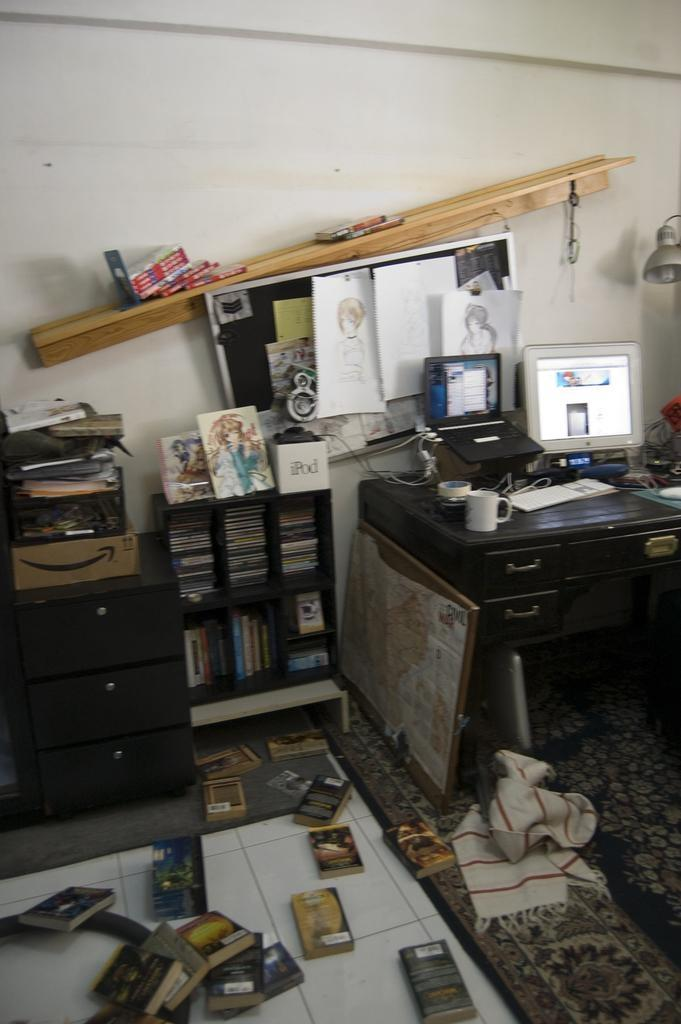AIO PC-Monitor-TV: (522, 341, 645, 453)
Filing Cabinet: (16, 581, 197, 817)
Rak: (162, 487, 339, 706)
